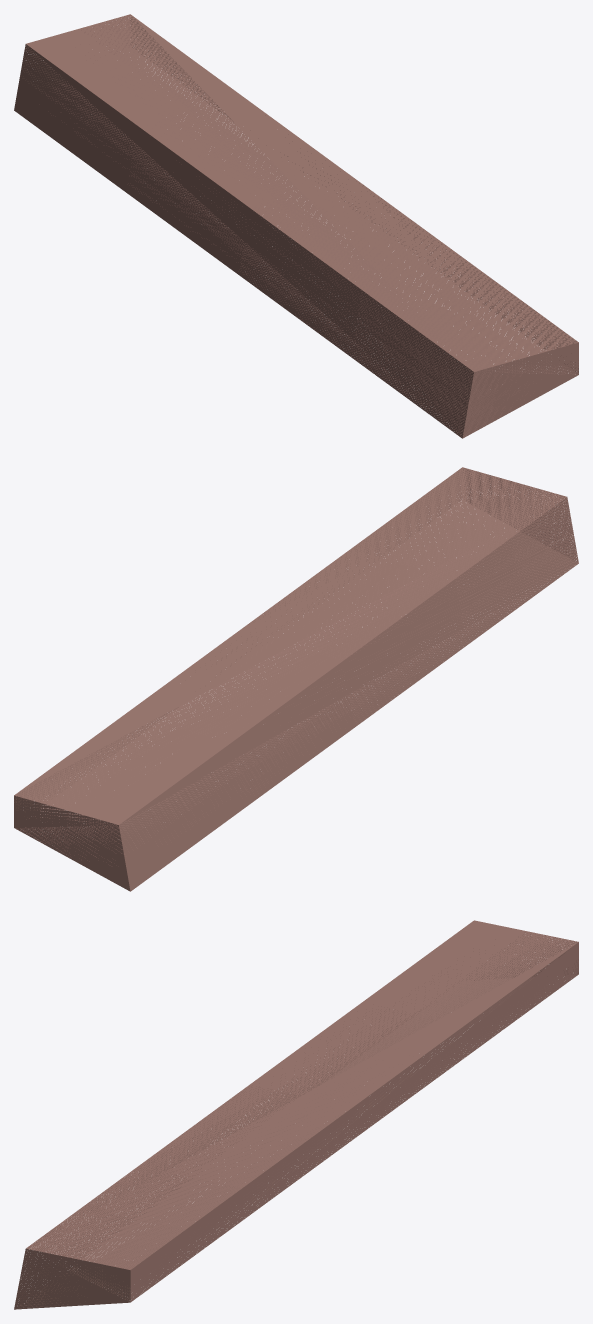
The model's file is SW_ENV_EL_TrackBase_Walkway_Side_10m_Collision.fbx.
The picture shows the model from 3 angles, top to bottom: view 1: azimuth 30°, elevation 25°; view 2: azimuth 150°, elevation 25°; view 3: azimuth 330°, elevation 25°; orthographic projection.
Visible parts, largest first — view 1: SW_ENV_EL_TrackBase_Walkway_Side_10m_Collision; view 2: SW_ENV_EL_TrackBase_Walkway_Side_10m_Collision; view 3: SW_ENV_EL_TrackBase_Walkway_Side_10m_Collision.
Boxes of the visible parts, x1,y1,x2,y2 form: SW_ENV_EL_TrackBase_Walkway_Side_10m_Collision: (14, 14, 578, 438); SW_ENV_EL_TrackBase_Walkway_Side_10m_Collision: (14, 467, 578, 891); SW_ENV_EL_TrackBase_Walkway_Side_10m_Collision: (14, 920, 578, 1309).
Bounding box in the file's own units: 150 × 83.5 × 1000.
